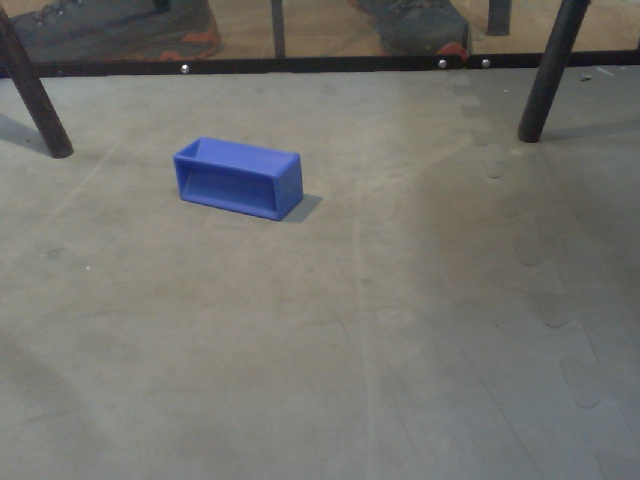BlueSample: (170, 133, 308, 221)
